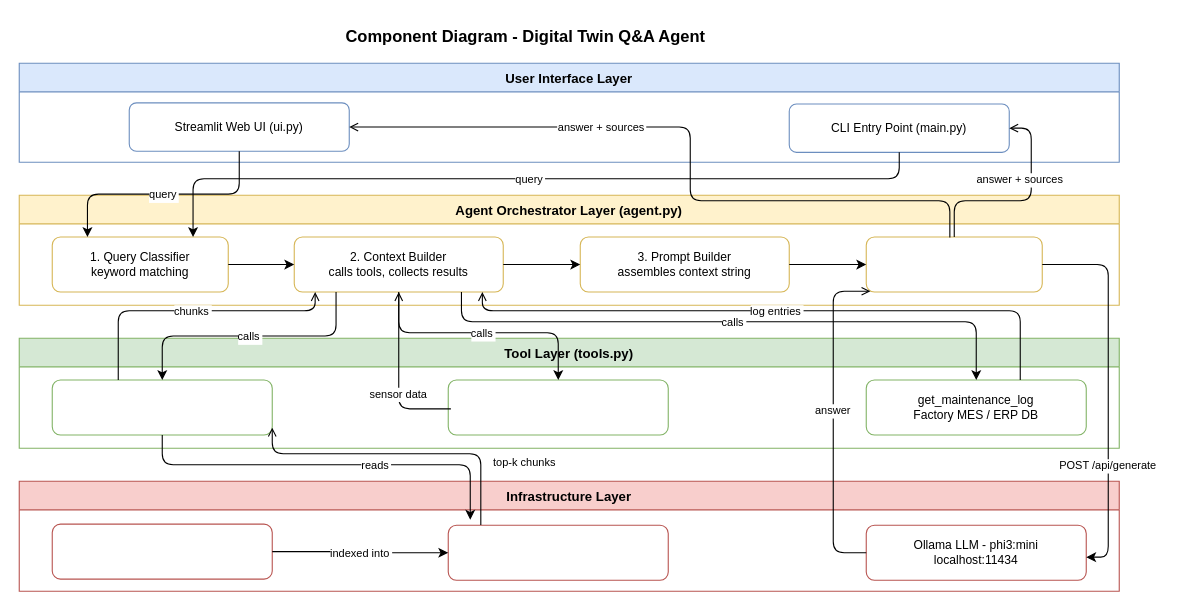
Some shapes in this 1177 by 611 pixel diagram are drawn without their labels. Each missing label, with the box of its shape:
4. LLM Caller Ollama REST API: (865, 236, 1042, 292)
Document Knowledge Base data/sample_docs/*.txt: (51, 523, 272, 579)
FAISS Vector Index data/index.faiss: (447, 524, 668, 580)
get_sensor_data Digital Twin REST API: (447, 379, 668, 435)
search_knowledge_base FAISS vector search: (51, 379, 272, 435)
